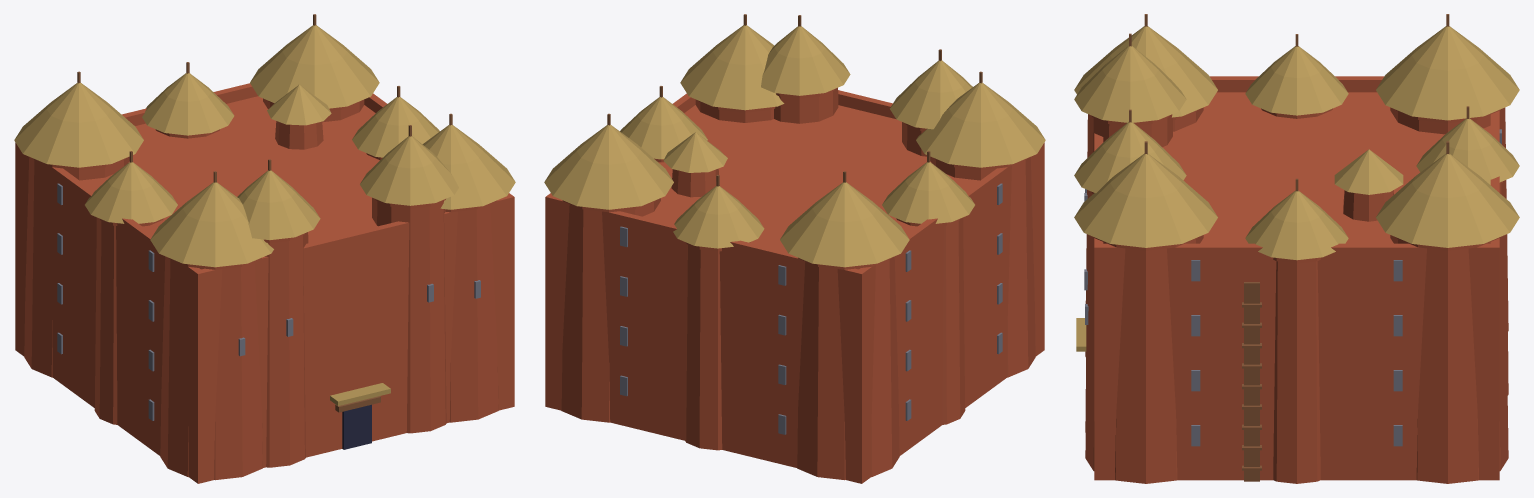
File: house-2x2-4f-tata-a.glb
The picture shows the model from 3 angles, left to right: view 1: azimuth 30°, elevation 25°; view 2: azimuth 150°, elevation 25°; view 3: azimuth 270°, elevation 25°; orthographic projection. The views are drawn at different scales.
Parts seen in each view (by area): view 1: house-2x2-4f-tata-a; view 2: house-2x2-4f-tata-a; view 3: house-2x2-4f-tata-a.
Boxes of the visible parts, box(x1,y1,x2,y2) form: house-2x2-4f-tata-a: box(14, 14, 515, 483); house-2x2-4f-tata-a: box(544, 14, 1045, 483); house-2x2-4f-tata-a: box(1074, 14, 1519, 483).
Size of the model in its own units: 1.98 by 1.58 by 1.98.
1 material, 1 textured.
